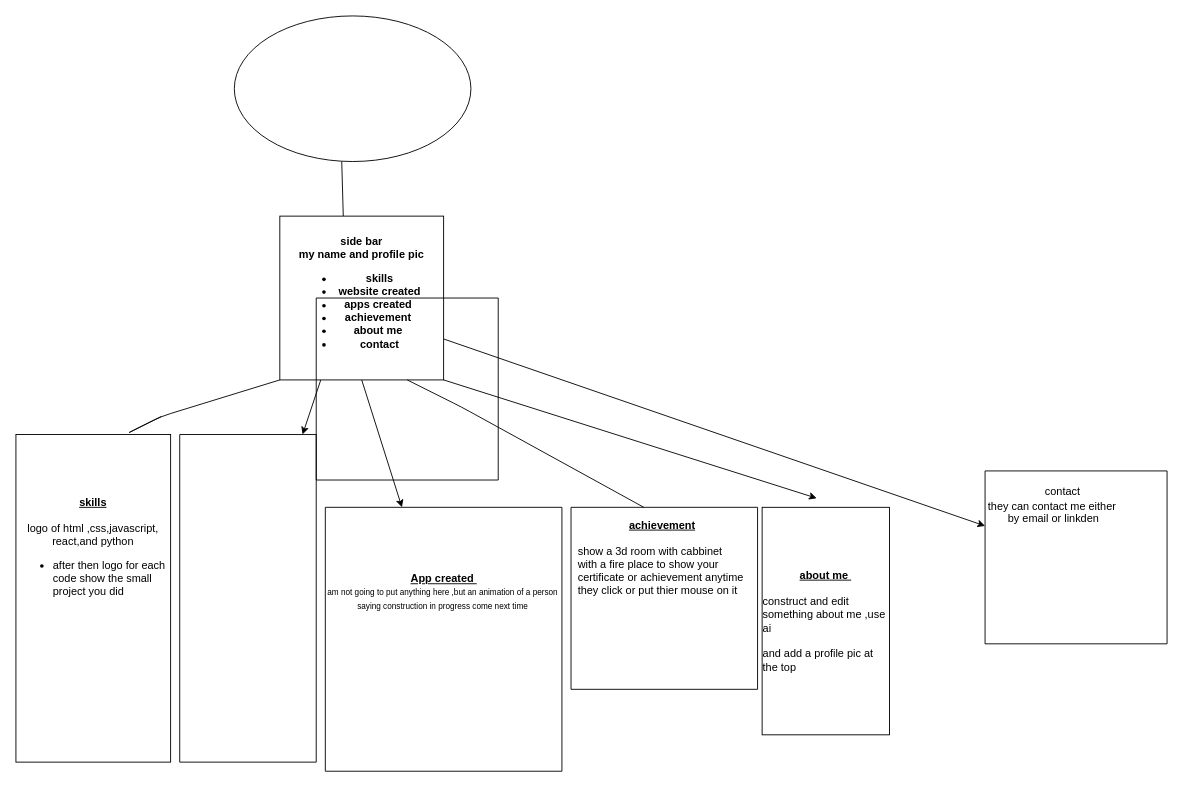
The diagram is 1183 pixels wide and 787 high, and some of its shapes have lost their labels. Each missing label, with the centre of its shape:
"portfolio landing page 3d display my name software developer" goes at point 352,88.
"website created hamburger menu" goes at point 247,598.
